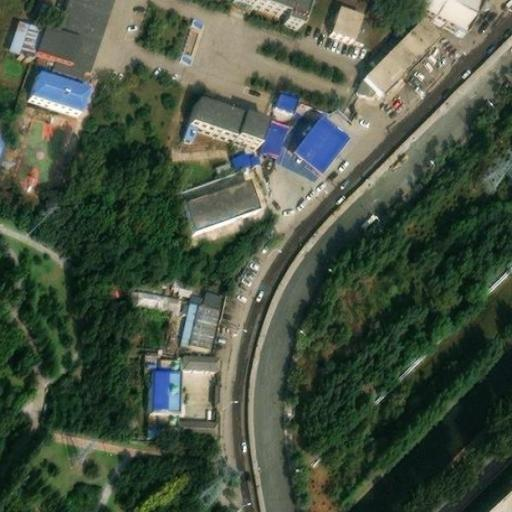building: (356, 13, 444, 95), (184, 172, 260, 223), (188, 91, 264, 138), (294, 107, 351, 166), (180, 283, 225, 345), (32, 62, 91, 105), (153, 348, 184, 409), (151, 408, 217, 435), (324, 1, 363, 41), (12, 12, 45, 51), (258, 113, 289, 152), (132, 284, 177, 307), (227, 146, 255, 171), (184, 349, 221, 364), (276, 85, 296, 105)
